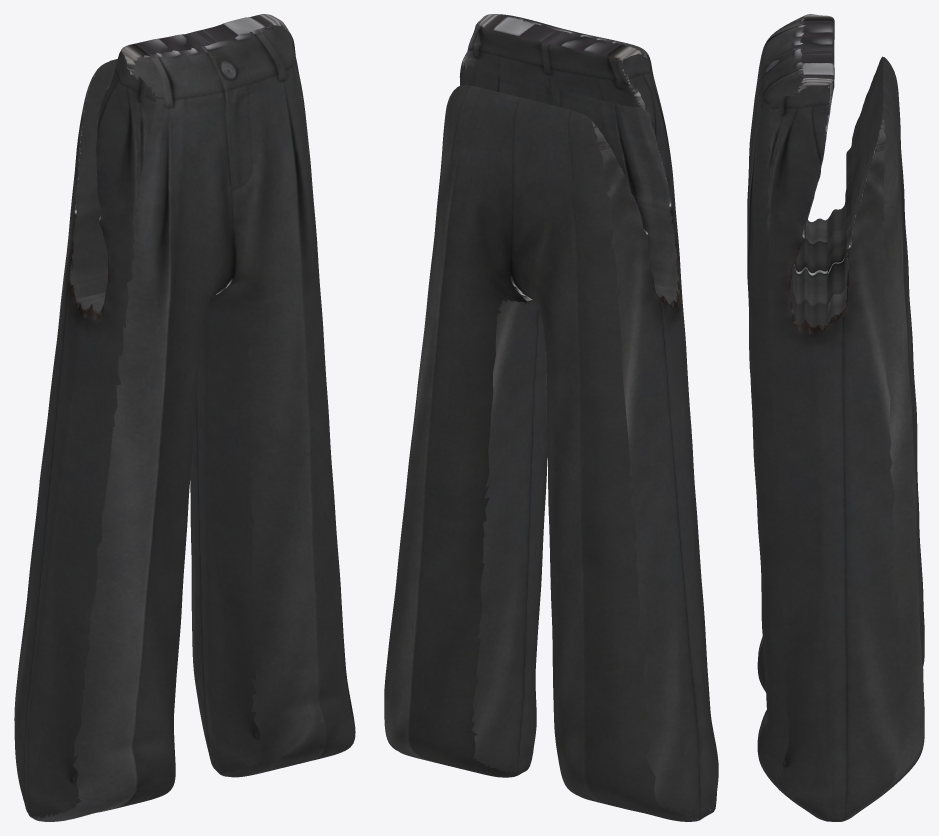
The model's file is NF016-photo-v4.glb.
3 views of the same model, side by side, from view 1: azimuth 30°, elevation 25°; view 2: azimuth 150°, elevation 25°; view 3: azimuth 270°, elevation 25° (orthographic). The views are drawn at different scales.
Parts seen in each view (by area): view 1: NF016_worn_photo_fitted; view 2: NF016_worn_photo_fitted; view 3: NF016_worn_photo_fitted.
Part boxes in pixels (x1,y1,x2,y2): NF016_worn_photo_fitted: (14, 14, 355, 821); NF016_worn_photo_fitted: (384, 14, 718, 821); NF016_worn_photo_fitted: (747, 14, 924, 821).
Bounding box in the file's own units: 0.4852 × 1.08 × 0.246.
3 materials, 3 textured.
